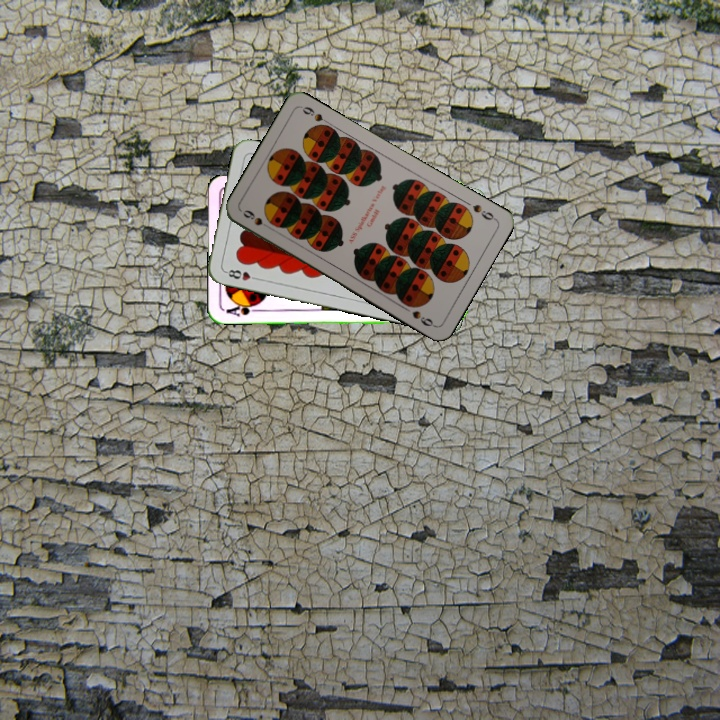H8: (221, 265, 262, 283)
S9: (239, 206, 275, 233), (468, 200, 499, 223)
SA: (222, 300, 263, 319)
